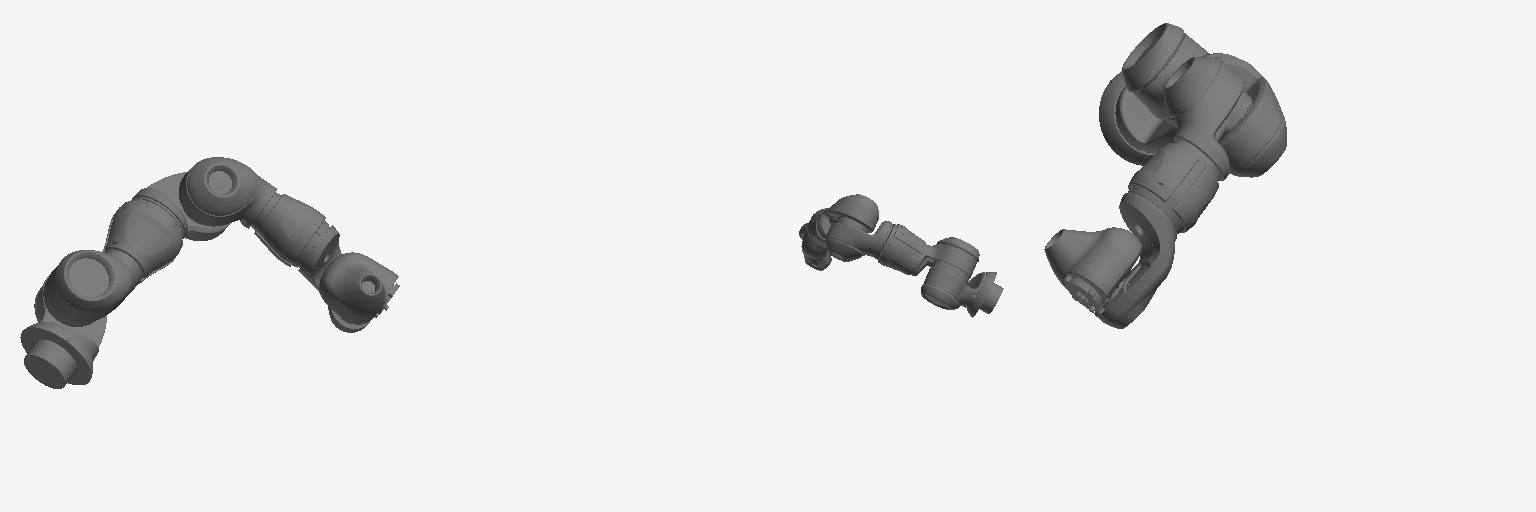
The robot description file, URDF, robot "yumi":
<?xml version="1.0" ?>
<!-- =================================================================================== -->
<!-- |    This document was autogenerated by xacro from yumi.urdf.xacro                | -->
<!-- |    EDITING THIS FILE BY HAND IS NOT RECOMMENDED                                 | -->
<!-- =================================================================================== -->
<robot name="yumi" xmlns:xacro="http://www.ros.org/wiki/xacro">
  <material name="Black">
    <color rgba="0.0 0.0 0.0 1.0"/>
  </material>
  <material name="Blue">
    <color rgba="0.0 0.0 0.8 1.0"/>
  </material>
  <material name="Green">
    <color rgba="0.0 0.8 0.0 1.0"/>
  </material>
  <material name="Grey">
    <color rgba="0.5 0.5 0.5 1.0"/>
  </material>
  <material name="Light_Grey">
    <color rgba="0.8 0.8 0.8 1.0"/>
  </material>
  <material name="Ivory">
    <color rgba="1.0 1.0 0.94 1.0"/>
  </material>
  <material name="Orange">
    <color rgba="1.0 0.423529411765 0.0392156862745 1.0"/>
  </material>
  <material name="Brown">
    <color rgba="0.870588235294 0.811764705882 0.764705882353 1.0"/>
  </material>
  <material name="Red">
    <color rgba="0.8 0.0 0.0 1.0"/>
  </material>
  <material name="White">
    <color rgba="1.0 1.0 1.0 1.0"/>
  </material>
  <gazebo>
    <plugin filename="libgazebo_ros_control.so" name="gazebo_ros_controller">
      <robotNamespace>/yumi</robotNamespace>
    </plugin>
  </gazebo>
  <link name="yumi_base_link"/>
  <joint name="yumi_base_link_to_body" type="fixed">
    <parent link="yumi_base_link"/>
    <child link="yumi_body"/>
    <origin rpy="0 0 0" xyz="0 0 0"/>
  </joint>
  <link name="yumi_body">
    <inertial>
      <origin rpy="0 0 0" xyz="0 0 0"/>
      <mass value="15"/>
      <inertia ixx="0.5" ixy="0" ixz="0" iyy="0.6" iyz="0" izz="0.3"/>
    </inertial>
    <visual>
      <origin rpy="0 0 0" xyz="0 0 0"/>
      <geometry>
        <mesh filename="visual/body.obj"/>
      </geometry>
      <material name="Light_Grey"/>
    </visual>
    <collision>
      <origin rpy="0 0 0" xyz="0 0 0"/>
      <geometry>
        <mesh filename="collision/body.obj"/>
      </geometry>
      <material name="Light_Grey"/>
    </collision>
  </link>
  <!--///////////////////////////////////// RIGHT ARM ////////////////////////////////  -->
  <!-- joint between body and link_1_r -->
  <!-- joint between link_1_r and link_2_r -->
  <!-- joint between link_2_r and link_3_r -->
  <!-- joint between link_3_r and link_4_r -->
  <!-- joint between link_4_r and link_5_r -->
  <!-- joint between link_5_r and link_6_r -->
  <!-- joint between link_6_r and link_7_r -->
  
  <!--///////////////////////////////////// LEFT ARM ////////////////////////////////  -->
  <!-- joint between body and link_1_l -->
  <joint name="yumi_joint_1" type="revolute">
    <parent link="yumi_body"/>
    <child link="yumi_link_1"/>
    <origin rpy="0.9781 -0.5716 2.3180" xyz="0.05355 0.07250 0.41492"/>
    <axis xyz="0 0 1"/>
    <limit effort="300" lower="-2.94087978961" upper="2.94087978961" velocity="3.14159265359"/>
    <dynamics damping="0.5"/>
  </joint>
  <link name="yumi_link_1">
    <inertial>
      <origin rpy="0 0 0" xyz="0 -0.03 0.12"/>
      <mass value="2"/>
      <inertia ixx="0.1" ixy="0" ixz="0" iyy="0.1" iyz="0" izz="0.1"/>
    </inertial>
    <visual>
      <origin rpy="0 0 0" xyz="0 0 0"/>
      <geometry>
        <mesh filename="visual/link_1.obj"/>
      </geometry>
      <material name="Grey"/>
    </visual>
    <collision>
      <origin rpy="0 0 0" xyz="0 0 0"/>
      <geometry>
        <mesh filename="collision/link_1.obj"/>
      </geometry>
      <material name="Grey"/>
    </collision>
  </link>
  <!-- joint between link_1_l and link_2_l -->
  <joint name="yumi_joint_2" type="revolute">
    <parent link="yumi_link_1"/>
    <child link="yumi_link_2"/>
    <origin rpy="1.57079632679 0.0 0.0" xyz="0.03 0.0 0.1"/>
    <axis xyz="0 0 1"/>
    <limit effort="300" lower="-2.50454747661" upper="0.759218224618" velocity="3.14159265359"/>
    <dynamics damping="0.5"/>
  </joint>
  <link name="yumi_link_2">
    <inertial>
      <origin rpy="0 0 0" xyz="0 0 0"/>
      <mass value="2"/>
      <inertia ixx="0.1" ixy="0" ixz="0" iyy="0.1" iyz="0" izz="0.1"/>
    </inertial>
    <visual>
      <origin rpy="0 0 0" xyz="0 0 0"/>
      <geometry>
        <mesh filename="visual/link_2.obj"/>
      </geometry>
      <material name="Grey"/>
    </visual>
    <collision>
      <origin rpy="0 0 0" xyz="0 0 0"/>
      <geometry>
        <mesh filename="collision/link_2.obj"/>
      </geometry>
      <material name="Grey"/>
    </collision>
  </link>
  <!-- joint between link_2_l and link_3_l -->
  <joint name="yumi_joint_7" type="revolute">
    <parent link="yumi_link_2"/>
    <child link="yumi_link_3"/>
    <origin rpy="-1.57079632679 0.0 0.0" xyz="-0.03 0.17283 0.0"/>
    <axis xyz="0 0 1"/>
    <limit effort="300" lower="-2.94087978961" upper="2.94087978961" velocity="3.14159265359"/>
    <dynamics damping="0.5"/>
  </joint>
  <link name="yumi_link_3">
    <inertial>
      <origin rpy="0 0 0" xyz="0 0 0"/>
      <mass value="2"/>
      <inertia ixx="0.1" ixy="0" ixz="0" iyy="0.1" iyz="0" izz="0.1"/>
    </inertial>
    <visual>
      <origin rpy="0 0 0" xyz="0 0 0"/>
      <geometry>
        <mesh filename="visual/link_3.obj"/>
      </geometry>
      <material name="Grey"/>
    </visual>
    <collision>
      <origin rpy="0 0 0" xyz="0 0 0"/>
      <geometry>
        <mesh filename="collision/link_3.obj"/>
      </geometry>
      <material name="Grey"/>
    </collision>
  </link>
  <!-- joint between link_3_l and link_4_l -->
  <joint name="yumi_joint_3" type="revolute">
    <parent link="yumi_link_3"/>
    <child link="yumi_link_4"/>
    <origin rpy="1.57079632679 -1.57079632679 0.0" xyz="-0.04188 0.0 0.07873"/>
    <axis xyz="0 0 1"/>
    <limit effort="300" lower="-2.15548162621" upper="1.3962634016" velocity="3.14159265359"/>
    <dynamics damping="0.5"/>
  </joint>
  <link name="yumi_link_4">
    <inertial>
      <origin rpy="0 0 0" xyz="0 0 0"/>
      <mass value="2"/>
      <inertia ixx="0.1" ixy="0" ixz="0" iyy="0.1" iyz="0" izz="0.1"/>
    </inertial>
    <visual>
      <origin rpy="0 0 0" xyz="0 0 0"/>
      <geometry>
        <mesh filename="visual/link_4.obj"/>
      </geometry>
      <material name="Grey"/>
    </visual>
    <collision>
      <origin rpy="0 0 0" xyz="0 0 0"/>
      <geometry>
        <mesh filename="collision/link_4.obj"/>
      </geometry>
      <material name="Grey"/>
    </collision>
  </link>
  <!-- joint between link_4_l and link_5_l -->
  <joint name="yumi_joint_4" type="revolute">
    <parent link="yumi_link_4"/>
    <child link="yumi_link_5"/>
    <origin rpy="-1.57079632679 0.0 0.0" xyz="0.0405 0.16461 0.0"/>
    <axis xyz="0 0 1"/>
    <limit effort="300" lower="-5.06145483078" upper="5.06145483078" velocity="6.98131700798"/>
    <dynamics damping="0.5"/>
  </joint>
  <link name="yumi_link_5">
    <inertial>
      <origin rpy="0 0 0" xyz="0 0 0"/>
      <mass value="2"/>
      <inertia ixx="0.1" ixy="0" ixz="0" iyy="0.1" iyz="0" izz="0.1"/>
    </inertial>
    <visual>
      <origin rpy="0 0 0" xyz="0 0 0"/>
      <geometry>
        <mesh filename="visual/link_5.obj"/>
      </geometry>
      <material name="Grey"/>
    </visual>
    <collision>
      <origin rpy="0 0 0" xyz="0 0 0"/>
      <geometry>
        <mesh filename="collision/link_5.obj"/>
      </geometry>
      <material name="Grey"/>
    </collision>
  </link>
  <!-- joint between link_5_l and link_6_l -->
  <joint name="yumi_joint_5" type="revolute">
    <parent link="yumi_link_5"/>
    <child link="yumi_link_6"/>
    <origin rpy="1.57079632679 0.0 0.0" xyz="-0.027 0 0.10039"/>
    <axis xyz="0 0 1"/>
    <limit effort="300" lower="-1.53588974176" upper="2.40855436775" velocity="6.98131700798"/>
    <dynamics damping="0.5"/>
  </joint>
  <link name="yumi_link_6">
    <inertial>
      <origin rpy="0 0 0" xyz="0 0 0"/>
      <mass value="2"/>
      <inertia ixx="0.1" ixy="0" ixz="0" iyy="0.1" iyz="0" izz="0.1"/>
    </inertial>
    <visual>
      <origin rpy="0 0 0" xyz="0 0 0"/>
      <geometry>
        <mesh filename="visual/link_6.obj"/>
      </geometry>
      <material name="Grey"/>
    </visual>
    <collision>
      <origin rpy="0 0 0" xyz="0 0 0"/>
      <geometry>
        <mesh filename="collision/link_6.obj"/>
      </geometry>
      <material name="Grey"/>
    </collision>
  </link>
  <!-- joint between link_6_l and link_7_l -->
  <joint name="yumi_joint_6" type="revolute">
    <parent link="yumi_link_6"/>
    <child link="yumi_link_7"/>
    <origin rpy="-1.57079632679 0.0 0.0" xyz="0.027 0.029 0.0"/>
    <axis xyz="0 0 1"/>
    <limit effort="300" lower="-3.99680398707" upper="3.99680398707" velocity="6.98131700798"/>
    <dynamics damping="0.5"/>
  </joint>
  <link name="yumi_link_7">
    <inertial>
      <origin rpy="0 0 0" xyz="0 0 0"/>
      <mass value="2"/>
      <inertia ixx="0.1" ixy="0" ixz="0" iyy="0.1" iyz="0" izz="0.1"/>
    </inertial>
    <visual>
      <origin rpy="0 0 0" xyz="0 0 0"/>
      <geometry>
        <mesh filename="visual/link_7.obj"/>
      </geometry>
      <material name="Grey"/>
    </visual>
    <collision>
      <origin rpy="0 0 0" xyz="0 0 0"/>
      <geometry>
        <mesh filename="collision/link_7.obj"/>
      </geometry>
      <material name="Grey"/>
    </collision>
  </link>
  <!-- Gazebo reference frame -->
  <gazebo reference="yumi_body">
    <material>Gazebo/Ivory</material>
    <mu1>0.2</mu1>
    <mu2>0.2</mu2>
  </gazebo>
  <transmission name="yumi_tran_1_r">
    <type>transmission_interface/SimpleTransmission</type>
    <joint name="yumi_joint_1_r">
      <hardwareInterface>hardware_interface/VelocityJointInterface</hardwareInterface>
    </joint>
    <actuator name="yumi_motor_1_r">
      <hardwareInterface>hardware_interface/VelocityJointInterface</hardwareInterface>
      <mechanicalReduction>1</mechanicalReduction>
    </actuator>
  </transmission>
  <transmission name="yumi_tran_2_r">
    <type>transmission_interface/SimpleTransmission</type>
    <joint name="yumi_joint_2_r">
      <hardwareInterface>hardware_interface/VelocityJointInterface</hardwareInterface>
    </joint>
    <actuator name="yumi_motor_2_r">
      <hardwareInterface>hardware_interface/VelocityJointInterface</hardwareInterface>
      <mechanicalReduction>1</mechanicalReduction>
    </actuator>
  </transmission>
  <transmission name="yumi_tran_3_r">
    <type>transmission_interface/SimpleTransmission</type>
    <joint name="yumi_joint_3_r">
      <hardwareInterface>hardware_interface/VelocityJointInterface</hardwareInterface>
    </joint>
    <actuator name="yumi_motor_3_r">
      <hardwareInterface>hardware_interface/VelocityJointInterface</hardwareInterface>
      <mechanicalReduction>1</mechanicalReduction>
    </actuator>
  </transmission>
  <transmission name="yumi_tran_4_r">
    <type>transmission_interface/SimpleTransmission</type>
    <joint name="yumi_joint_4_r">
      <hardwareInterface>hardware_interface/VelocityJointInterface</hardwareInterface>
    </joint>
    <actuator name="yumi_motor_4_r">
      <hardwareInterface>hardware_interface/VelocityJointInterface</hardwareInterface>
      <mechanicalReduction>1</mechanicalReduction>
    </actuator>
  </transmission>
  <transmission name="yumi_tran_5_r">
    <type>transmission_interface/SimpleTransmission</type>
    <joint name="yumi_joint_5_r">
      <hardwareInterface>hardware_interface/VelocityJointInterface</hardwareInterface>
    </joint>
    <actuator name="yumi_motor_5_r">
      <hardwareInterface>hardware_interface/VelocityJointInterface</hardwareInterface>
      <mechanicalReduction>1</mechanicalReduction>
    </actuator>
  </transmission>
  <transmission name="yumi_tran_6_r">
    <type>transmission_interface/SimpleTransmission</type>
    <joint name="yumi_joint_6_r">
      <hardwareInterface>hardware_interface/VelocityJointInterface</hardwareInterface>
    </joint>
    <actuator name="yumi_motor_6_r">
      <hardwareInterface>hardware_interface/VelocityJointInterface</hardwareInterface>
      <mechanicalReduction>1</mechanicalReduction>
    </actuator>
  </transmission>
  <transmission name="yumi_tran_7_r">
    <type>transmission_interface/SimpleTransmission</type>
    <joint name="yumi_joint_7_r">
      <hardwareInterface>hardware_interface/VelocityJointInterface</hardwareInterface>
    </joint>
    <actuator name="yumi_motor_7_r">
      <hardwareInterface>hardware_interface/VelocityJointInterface</hardwareInterface>
      <mechanicalReduction>1</mechanicalReduction>
    </actuator>
  </transmission>
  <transmission name="yumi_tran_1">
    <type>transmission_interface/SimpleTransmission</type>
    <joint name="yumi_joint_1">
      <hardwareInterface>hardware_interface/VelocityJointInterface</hardwareInterface>
    </joint>
    <actuator name="yumi_motor_1">
      <hardwareInterface>hardware_interface/VelocityJointInterface</hardwareInterface>
      <mechanicalReduction>1</mechanicalReduction>
    </actuator>
  </transmission>
  <transmission name="yumi_tran_2">
    <type>transmission_interface/SimpleTransmission</type>
    <joint name="yumi_joint_2">
      <hardwareInterface>hardware_interface/VelocityJointInterface</hardwareInterface>
    </joint>
    <actuator name="yumi_motor_2">
      <hardwareInterface>hardware_interface/VelocityJointInterface</hardwareInterface>
      <mechanicalReduction>1</mechanicalReduction>
    </actuator>
  </transmission>
  <transmission name="yumi_tran_3">
    <type>transmission_interface/SimpleTransmission</type>
    <joint name="yumi_joint_3">
      <hardwareInterface>hardware_interface/VelocityJointInterface</hardwareInterface>
    </joint>
    <actuator name="yumi_motor_3">
      <hardwareInterface>hardware_interface/VelocityJointInterface</hardwareInterface>
      <mechanicalReduction>1</mechanicalReduction>
    </actuator>
  </transmission>
  <transmission name="yumi_tran_4">
    <type>transmission_interface/SimpleTransmission</type>
    <joint name="yumi_joint_4">
      <hardwareInterface>hardware_interface/VelocityJointInterface</hardwareInterface>
    </joint>
    <actuator name="yumi_motor_4">
      <hardwareInterface>hardware_interface/VelocityJointInterface</hardwareInterface>
      <mechanicalReduction>1</mechanicalReduction>
    </actuator>
  </transmission>
  <transmission name="yumi_tran_5">
    <type>transmission_interface/SimpleTransmission</type>
    <joint name="yumi_joint_5">
      <hardwareInterface>hardware_interface/VelocityJointInterface</hardwareInterface>
    </joint>
    <actuator name="yumi_motor_5">
      <hardwareInterface>hardware_interface/VelocityJointInterface</hardwareInterface>
      <mechanicalReduction>1</mechanicalReduction>
    </actuator>
  </transmission>
  <transmission name="yumi_tran_6">
    <type>transmission_interface/SimpleTransmission</type>
    <joint name="yumi_joint_6">
      <hardwareInterface>hardware_interface/VelocityJointInterface</hardwareInterface>
    </joint>
    <actuator name="yumi_motor_6">
      <hardwareInterface>hardware_interface/VelocityJointInterface</hardwareInterface>
      <mechanicalReduction>1</mechanicalReduction>
    </actuator>
  </transmission>
  <transmission name="yumi_tran_7">
    <type>transmission_interface/SimpleTransmission</type>
    <joint name="yumi_joint_7">
      <hardwareInterface>hardware_interface/VelocityJointInterface</hardwareInterface>
    </joint>
    <actuator name="yumi_motor_7">
      <hardwareInterface>hardware_interface/VelocityJointInterface</hardwareInterface>
      <mechanicalReduction>1</mechanicalReduction>
    </actuator>
  </transmission>
</robot>

--- Render facts (derived) ---
Views: 3 orthographic renders of the robot side by side, from view 1: azimuth 30°, elevation 25°; view 2: azimuth 150°, elevation 25°; view 3: azimuth 270°, elevation 25°.
Robot: yumi — 9 links, 8 joints (7 revolute, 1 fixed); root link yumi_base_link; default pose: all joints at 0.
Visible links, largest first — view 1: yumi_link_2, yumi_link_4, yumi_link_1, yumi_link_6, yumi_link_3, yumi_link_5; view 2: yumi_link_2, yumi_link_1, yumi_link_4, yumi_link_3, yumi_link_5; view 3: yumi_link_4, yumi_link_5, yumi_link_3, yumi_link_6, yumi_link_2, yumi_link_1, yumi_link_7.
Link boxes in pixels (x1,y1,x2,y2): yumi_link_2: [43, 199, 182, 326]; yumi_link_4: [179, 157, 328, 267]; yumi_link_1: [20, 275, 106, 388]; yumi_link_6: [319, 252, 398, 324]; yumi_link_3: [132, 172, 230, 240]; yumi_link_5: [298, 225, 369, 332]; yumi_link_2: [875, 224, 979, 284]; yumi_link_1: [921, 267, 1003, 317]; yumi_link_4: [807, 194, 878, 247]; yumi_link_3: [825, 221, 892, 261]; yumi_link_5: [801, 221, 831, 270]; yumi_link_4: [1128, 57, 1252, 233]; yumi_link_5: [1094, 193, 1176, 328]; yumi_link_3: [1216, 57, 1286, 177]; yumi_link_6: [1044, 227, 1141, 304]; yumi_link_2: [1122, 23, 1238, 124]; yumi_link_1: [1099, 71, 1176, 165]; yumi_link_7: [1063, 275, 1104, 314].
Bounding box of the posed robot: 1.04 × 0.5679 × 0.2748 m (x, y, z).
Meshes: 8 distinct files referenced, 7 mesh visuals loaded (7 OBJ); not drawn: 1 (reference not matched to a file when rendering).
